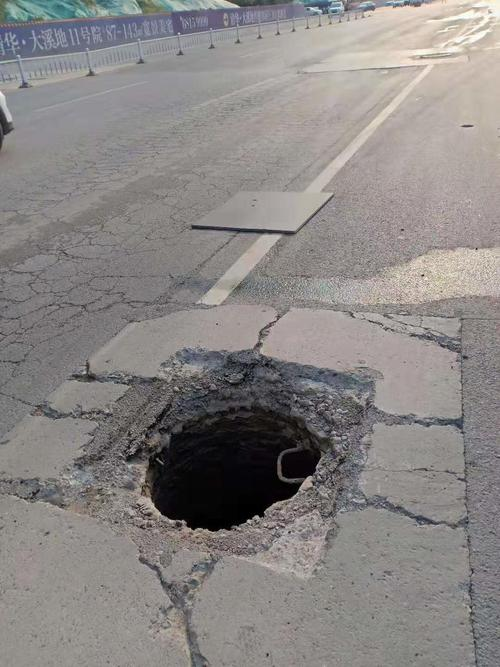lose: (67, 331, 389, 611)
